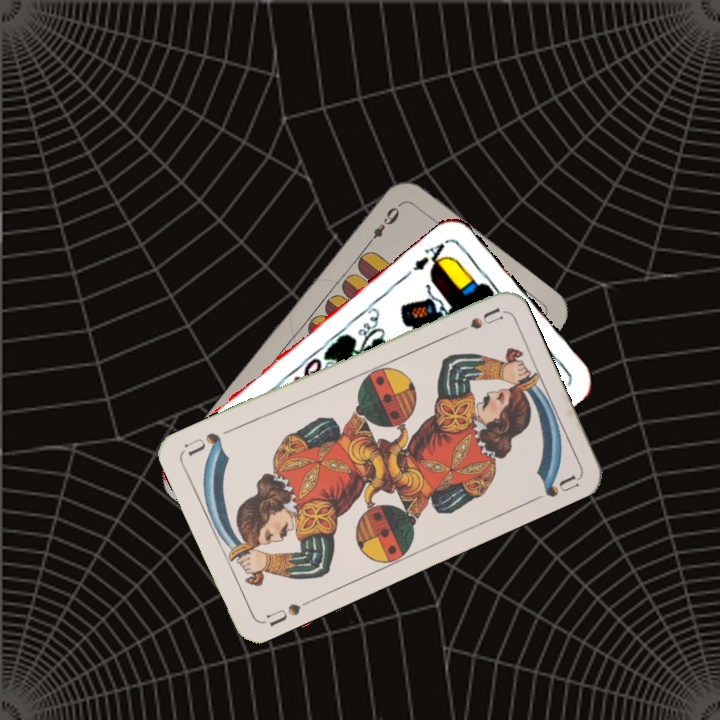E9: (362, 199, 404, 250)
EA: (409, 236, 453, 274)
SU: (447, 303, 505, 338), (262, 599, 303, 630)
